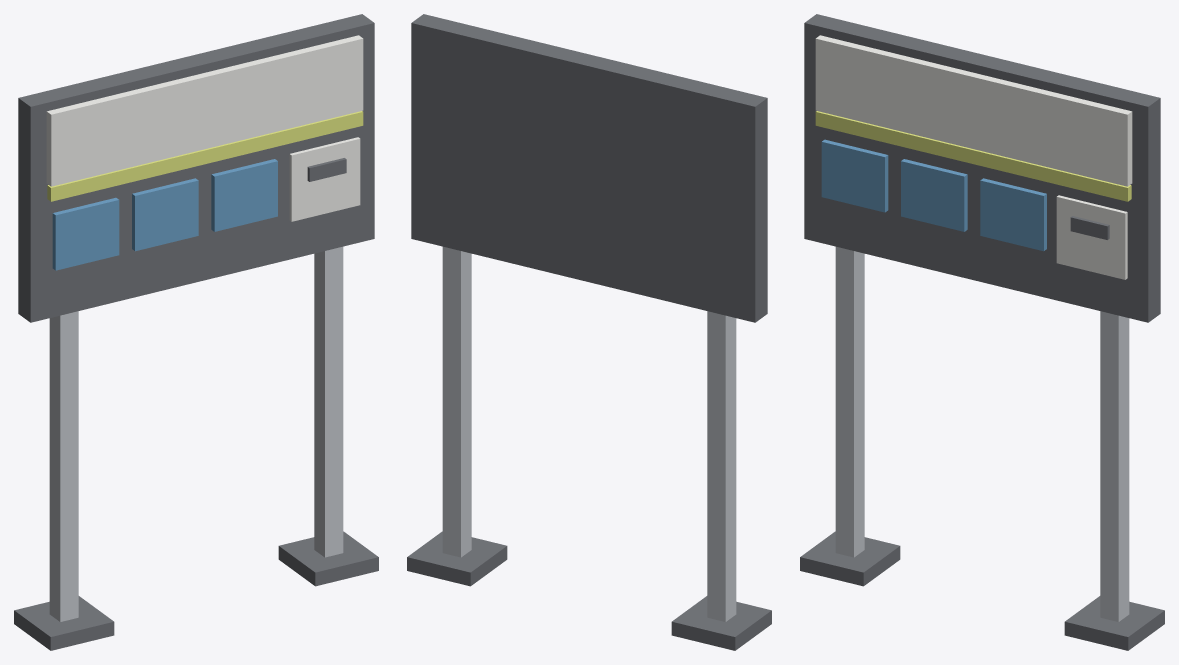
File: tennis-club-and-courts-court-scoreboard-b636b534__33624.glb
3 views of the same model, side by side, from view 1: azimuth 30°, elevation 25°; view 2: azimuth 150°, elevation 25°; view 3: azimuth 330°, elevation 25° (orthographic).
Parts seen in each view (by area): view 1: court-scoreboard, flap/white, flap/charcoal; view 2: court-scoreboard; view 3: court-scoreboard, flap/white, flap/charcoal.
Part boxes in pixels (<box>): court-scoreboard: <box>14,14,378,650</box>; flap/white: <box>289,137,360,221</box>; flap/charcoal: <box>307,158,346,181</box>; court-scoreboard: <box>407,14,771,650</box>; court-scoreboard: <box>800,14,1164,650</box>; flap/white: <box>1056,195,1127,279</box>; flap/charcoal: <box>1070,216,1109,239</box>.
Bounding box in the file's own units: 1.3 × 1.94 × 0.2399.
